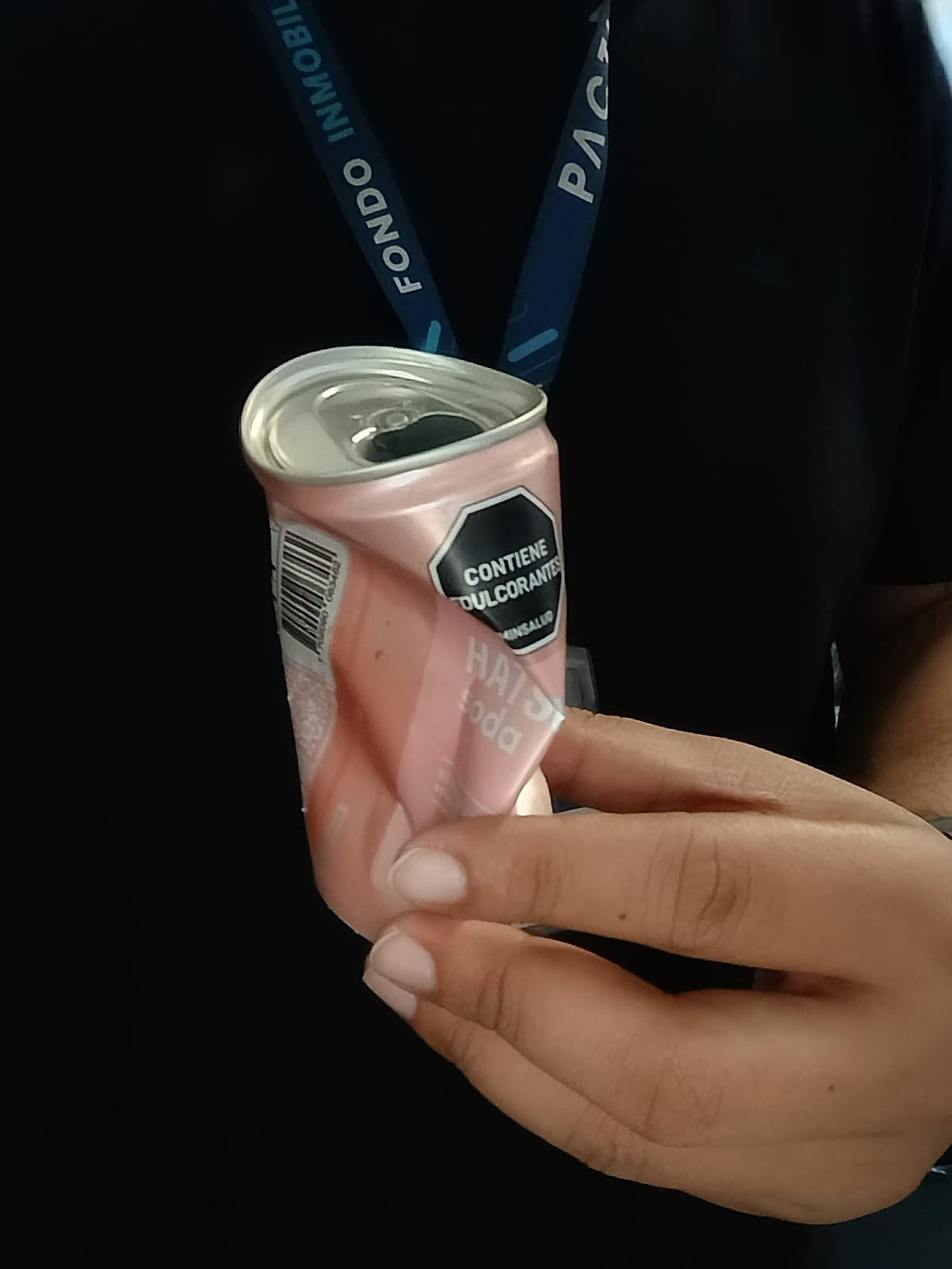Metal: (235, 343, 574, 942)
